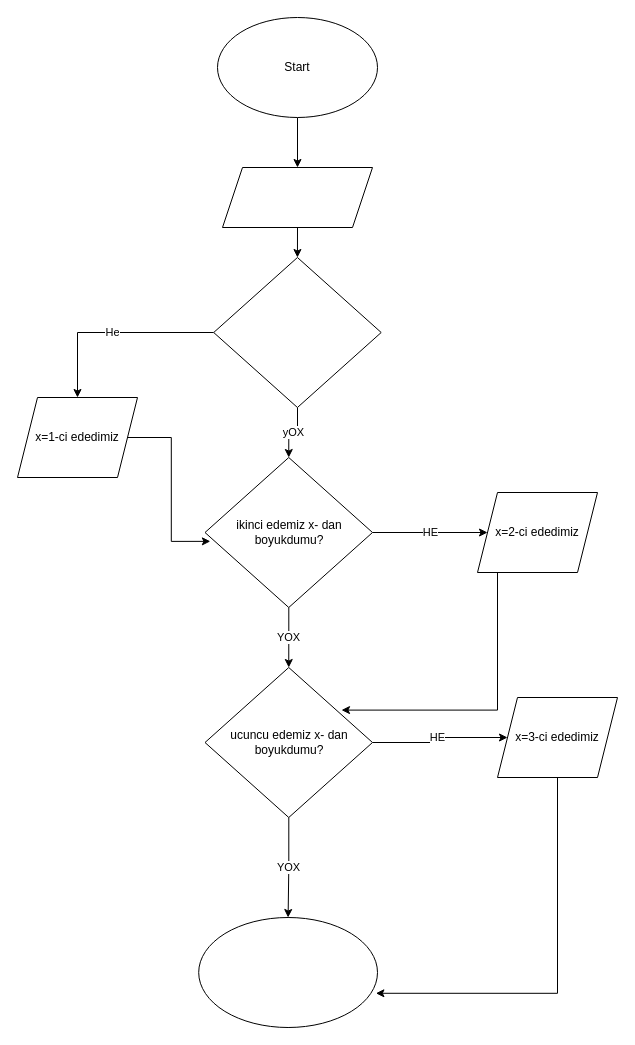
Some shapes in this 635 by 1045 pixel diagram are drawn without their labels. Here are the shapes that lost their labels. From the top down, the centre of each, then its label:
(x=297, y=197): x=0
(x=297, y=332): birinci ededimiz x-dan boyukdumu?
(x=288, y=972): En boyuk ededimiz x-dir
